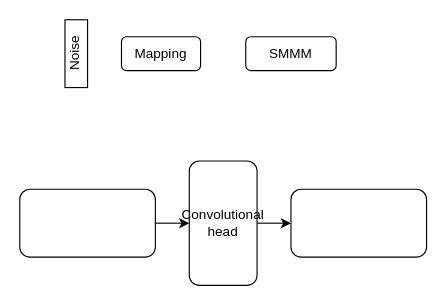
Some shapes in this 446 by 305 pixel diagram are drawn without their labels. The centre of each missing label's shape, as x and y in pixels:
Five stage transformer block: point 358,222
Masked Image: point 87,222
